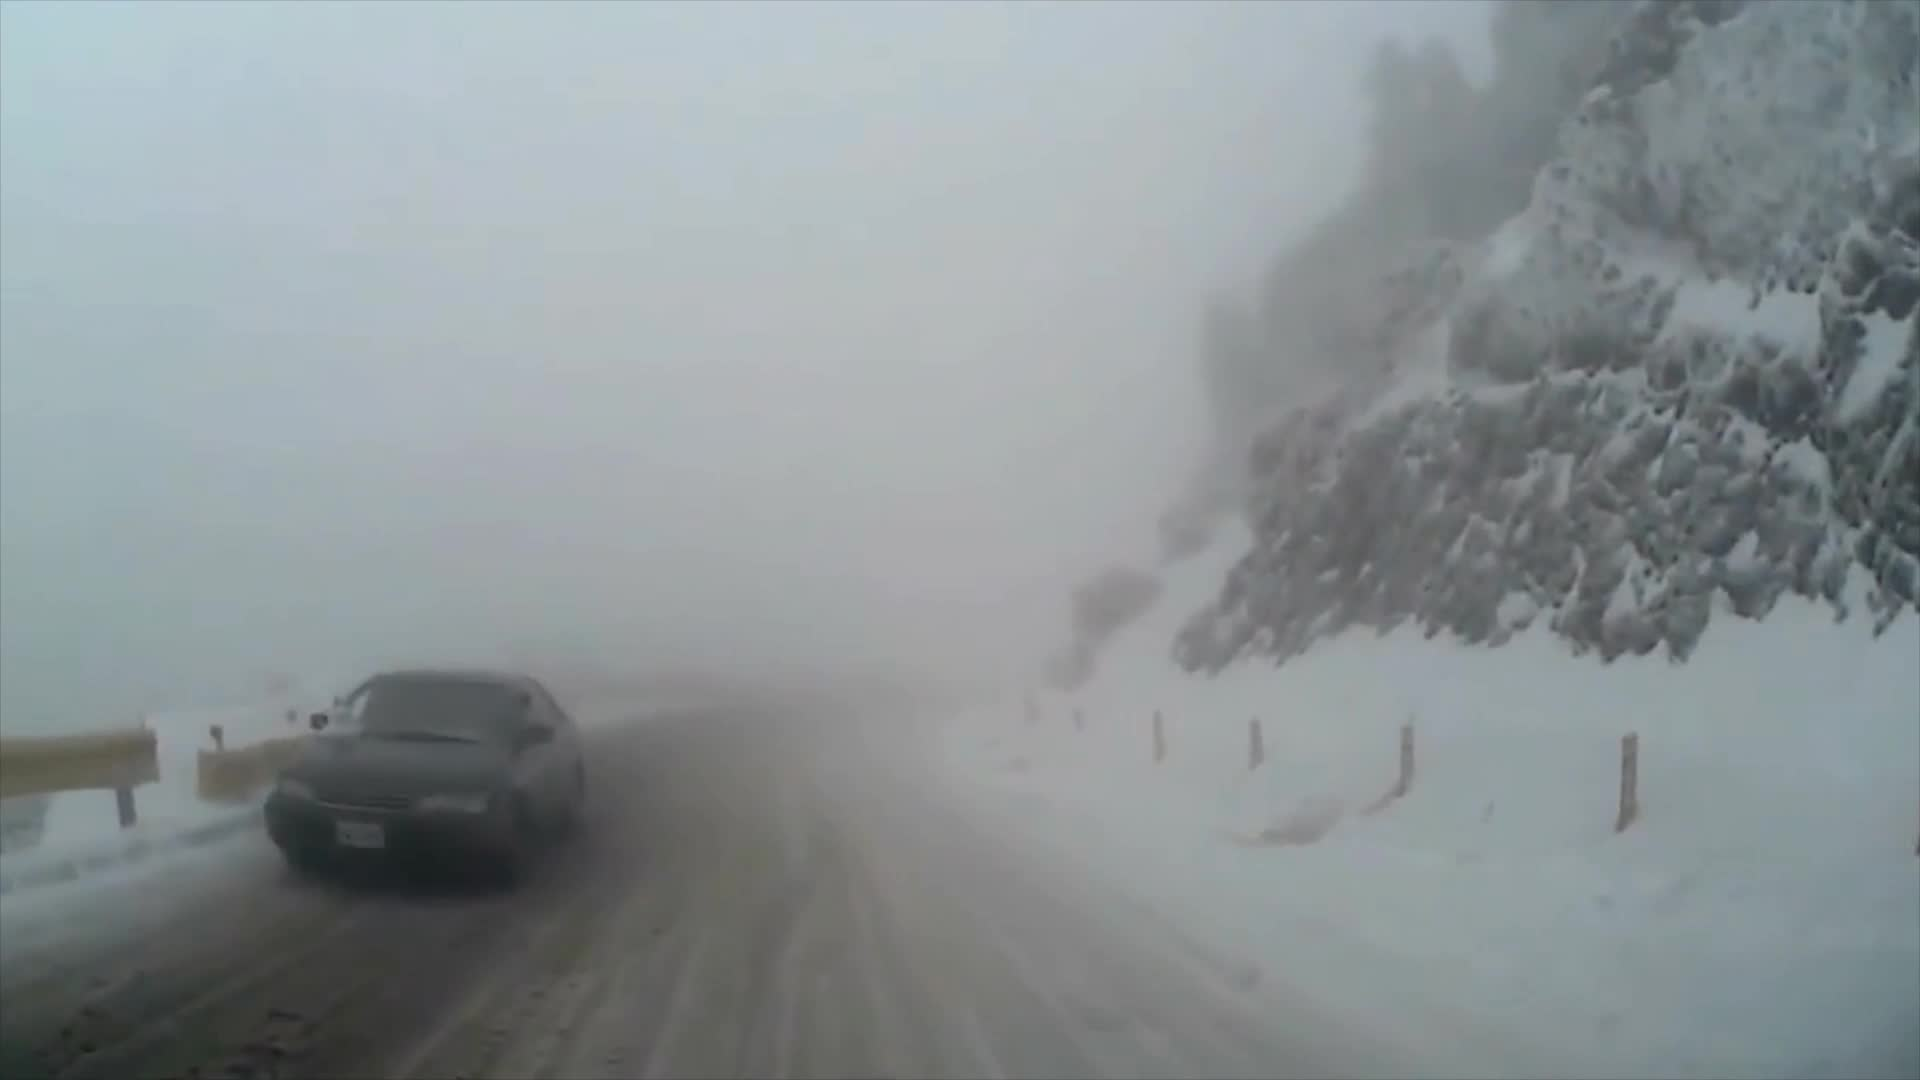vehicle: (262, 666, 589, 887)
